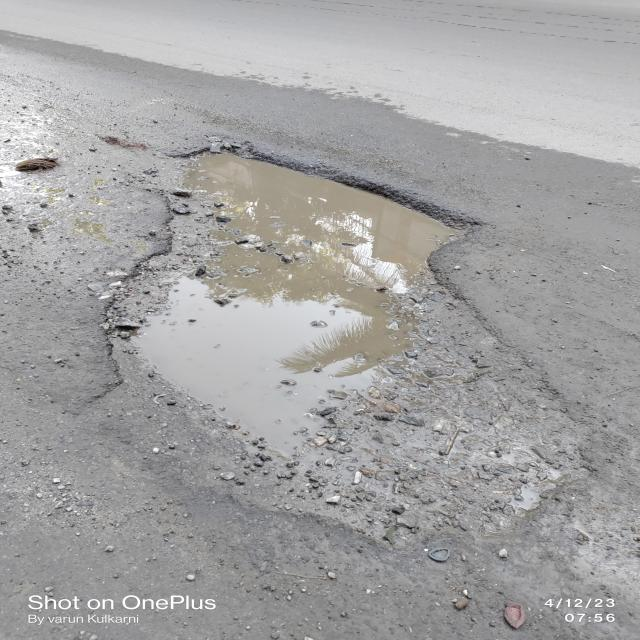Puddle pothole: (117, 126, 461, 434)
